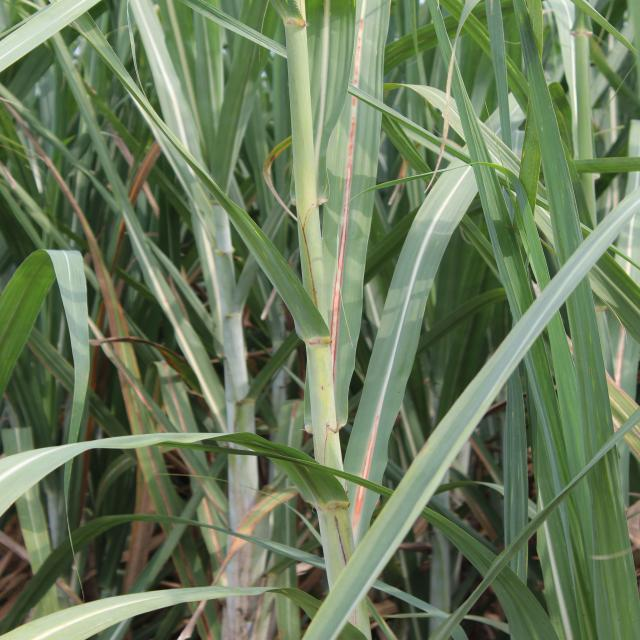Sugarcane: (49, 1, 330, 337), (338, 41, 474, 640), (485, 21, 582, 640), (108, 115, 231, 454), (3, 428, 251, 547), (520, 1, 586, 326), (2, 75, 124, 247), (456, 0, 516, 315), (43, 12, 151, 176), (164, 431, 388, 510), (126, 3, 211, 209), (340, 0, 384, 377), (3, 585, 300, 639), (71, 513, 320, 574), (281, 2, 323, 330), (152, 360, 222, 554), (212, 4, 267, 220), (432, 1, 486, 198), (353, 82, 472, 170), (126, 502, 208, 614), (1, 249, 64, 393), (159, 319, 230, 440), (306, 2, 341, 242), (1, 535, 79, 636), (1, 3, 70, 111), (386, 3, 490, 74), (167, 1, 290, 60), (2, 346, 62, 464), (64, 300, 96, 470), (484, 0, 511, 183), (569, 2, 640, 71), (242, 334, 302, 407), (366, 580, 457, 621), (431, 480, 500, 500)
